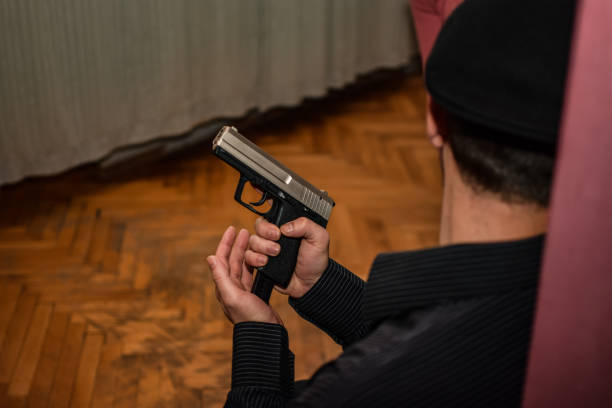gun: (212, 126, 338, 290)
